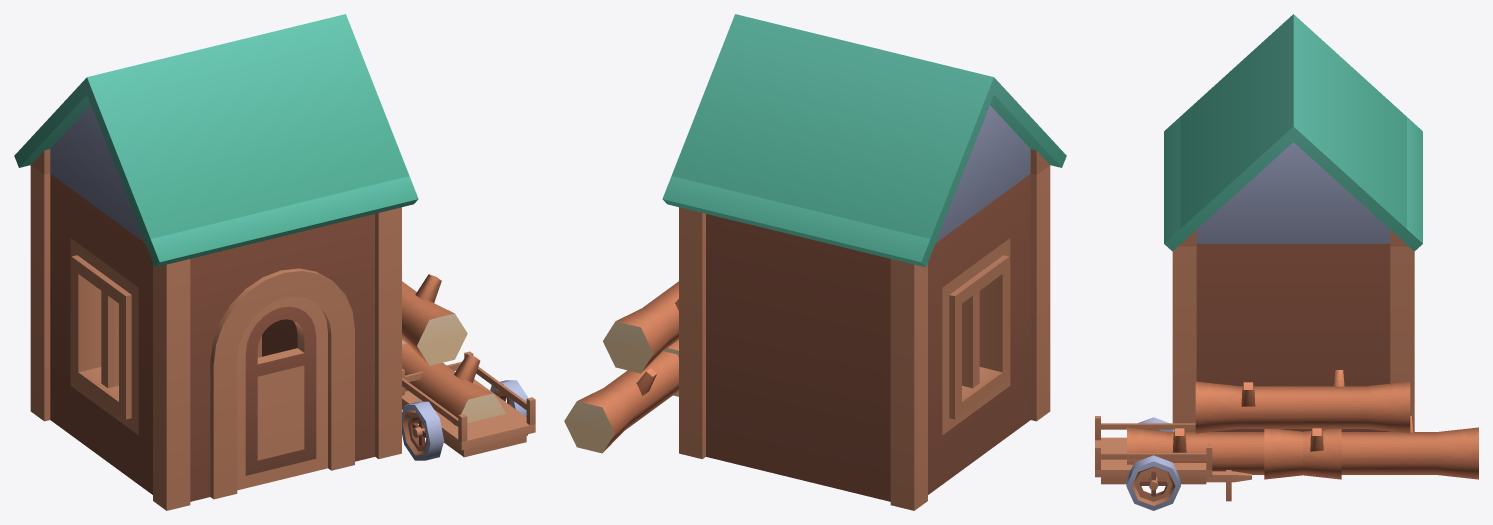
Rendered from lumber_2.glb.
3 renders of one model, left to right at view 1: azimuth 30°, elevation 25°; view 2: azimuth 150°, elevation 25°; view 3: azimuth 270°, elevation 25°, orthographic. The views are drawn at different scales.
Visible parts, largest first — view 1: lumber_2; view 2: lumber_2; view 3: lumber_2.
Boxes of the visible parts, x1=… form: lumber_2: x1=14, y1=14, x2=535, y2=510; lumber_2: x1=564, y1=14, x2=1066, y2=510; lumber_2: x1=1095, y1=14, x2=1478, y2=510.
Size of the model in its own units: 0.925 by 0.9738 by 0.9835.
Materials: 9 (9 with a texture image).
